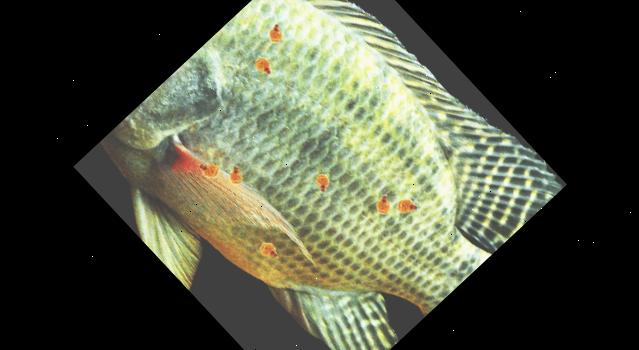Parasitic Disease: (99, 0, 561, 350)
